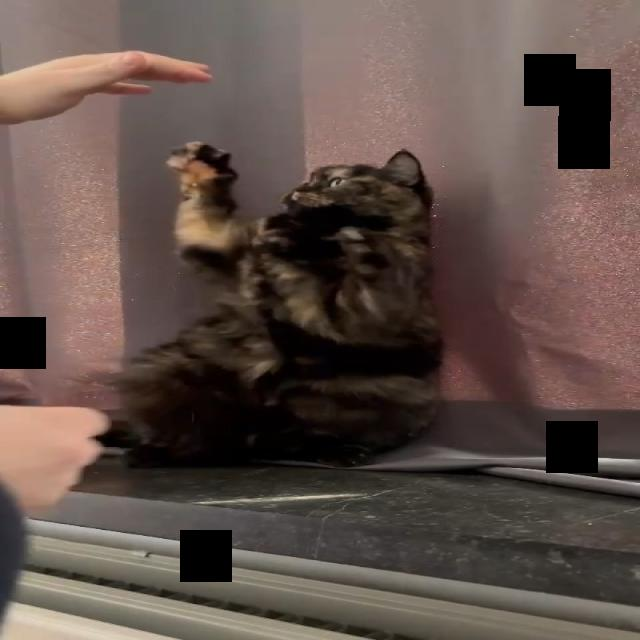authorized: (103, 142, 445, 468)
